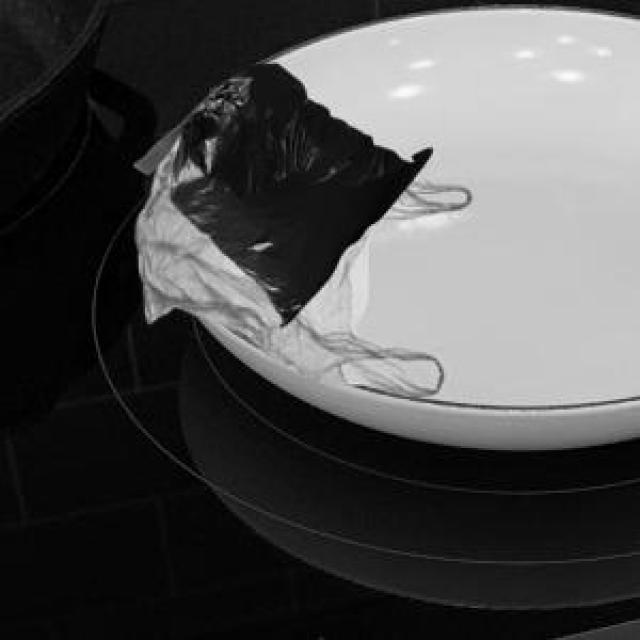miscellaneous trash: (130, 60, 429, 322)
